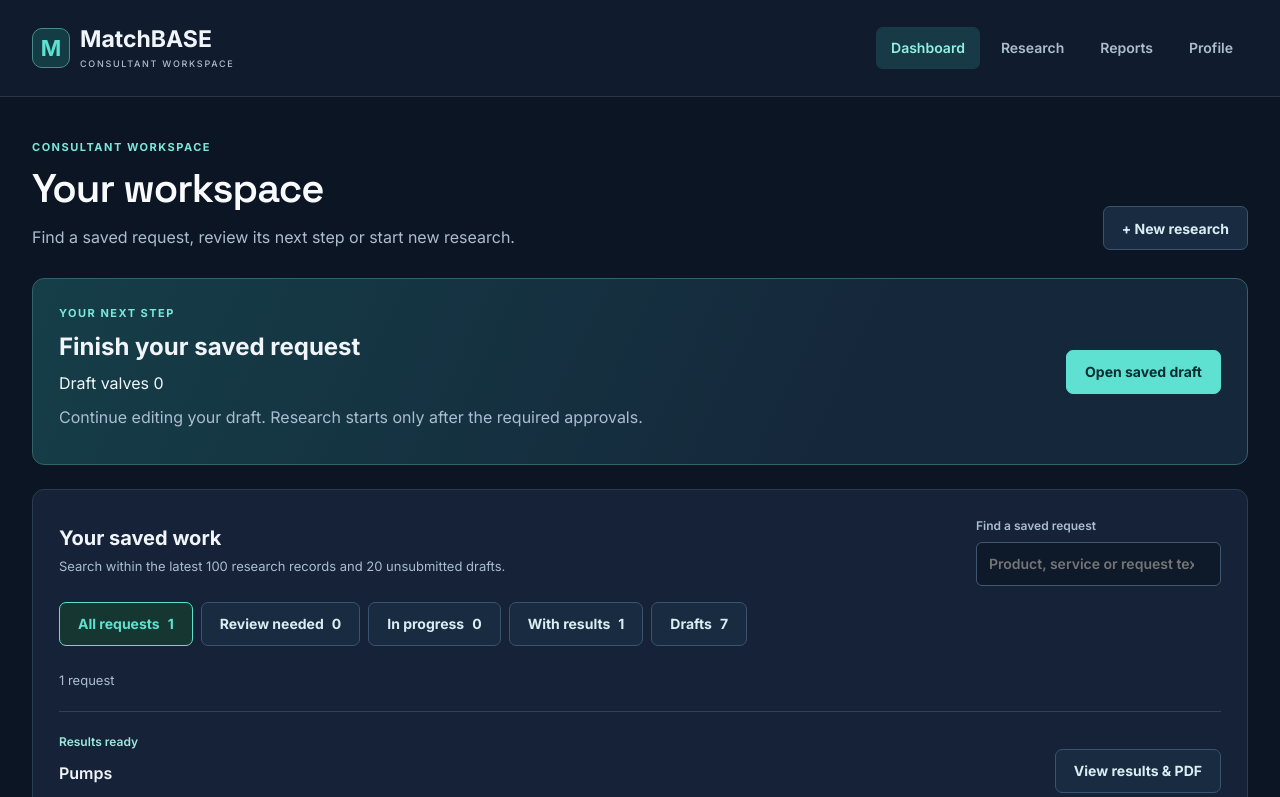
Test: MB-UX-SIMPLIFY-001 L01 finding and returning to saved work › finds an older draft by its full text and keeps submitted drafts out of the draft list
This screenshot has width=1280, height=797.
Expected: the button "Drafts 7" is shown, [651, 602, 747, 646]
Type "nitrogen" into the search field at coordinates (1098, 564), box [976, 542, 1221, 586]
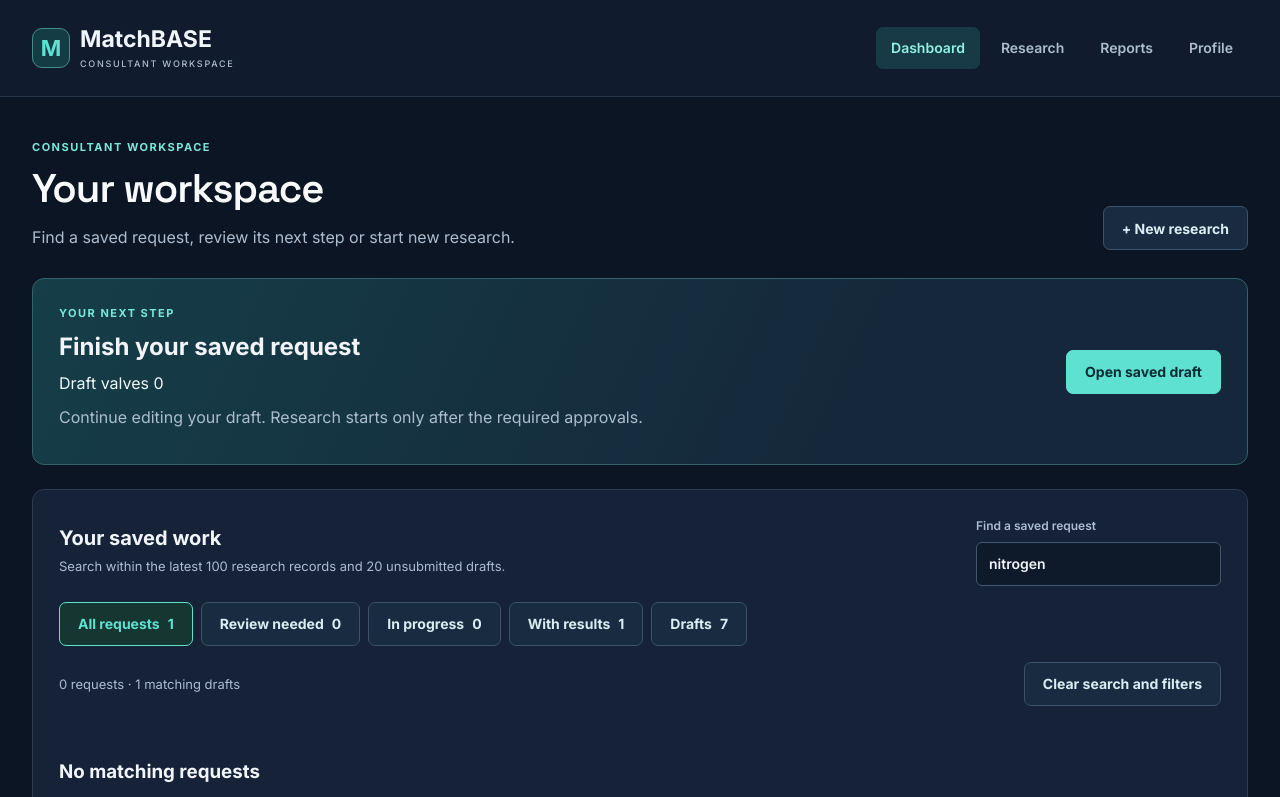
Click the button "Drafts 7" at coordinates (699, 624), box [651, 602, 747, 646]
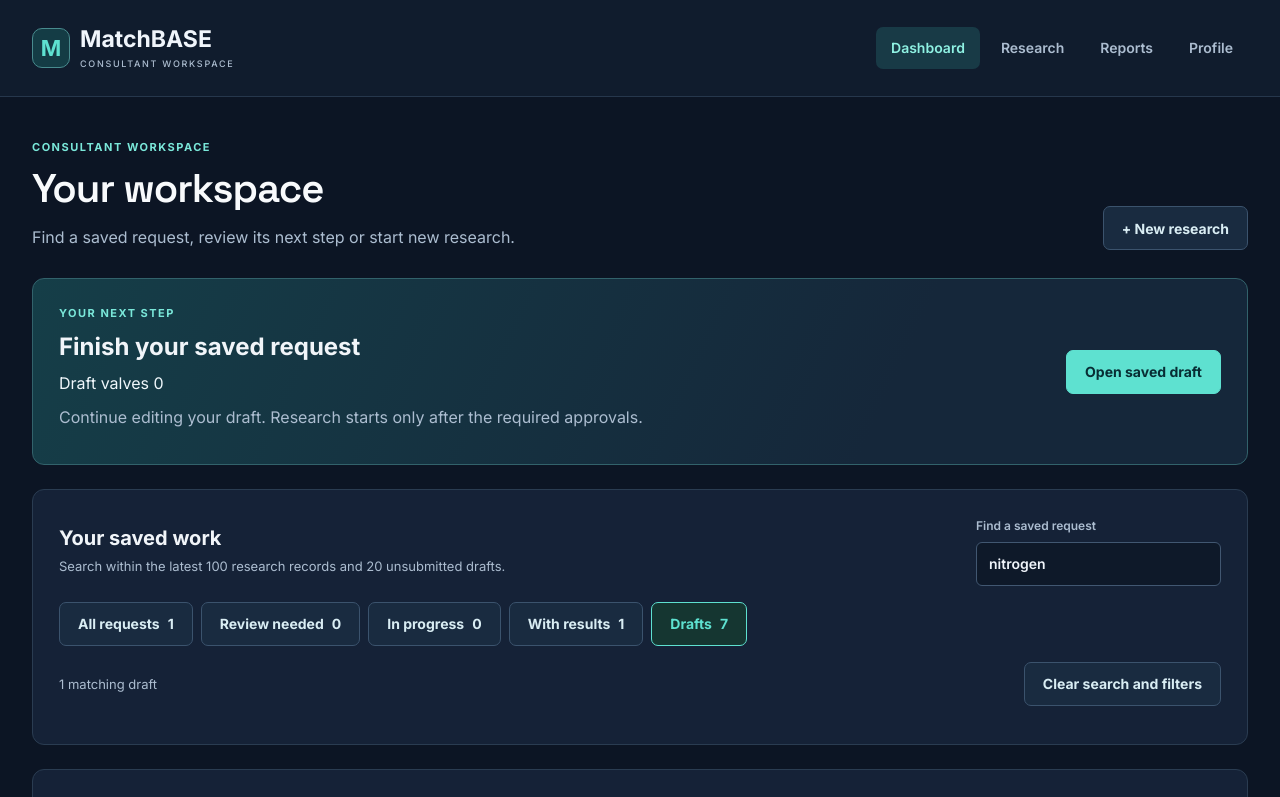
Result: the message reads "1 matching draft" at [59, 676, 157, 692]
Result: the heading "No matching requests" is gone
